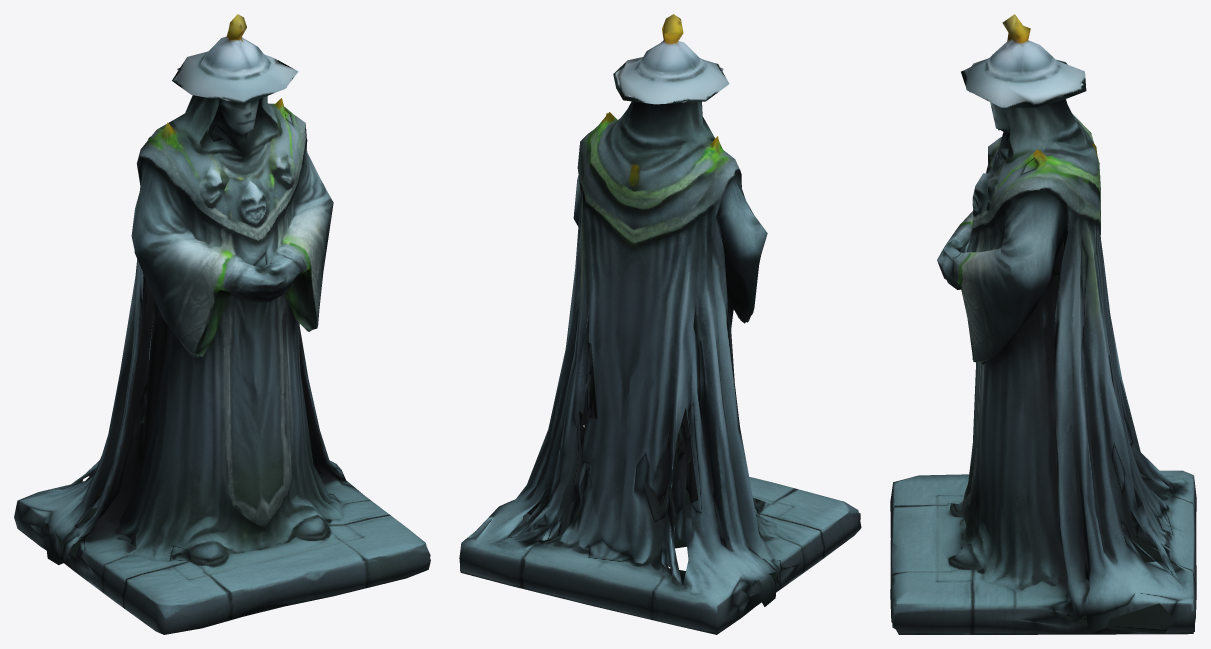
The model's file is cathedral-choir.glb.
3 renders of one model, left to right at view 1: azimuth 30°, elevation 25°; view 2: azimuth 150°, elevation 25°; view 3: azimuth 270°, elevation 25°, orthographic. The views are drawn at different scales.
Parts seen in each view (by area): view 1: geometry_0; view 2: geometry_0; view 3: geometry_0.
Boxes of the visible parts, <box> form: geometry_0: <box>14,14,430,634</box>; geometry_0: <box>459,14,861,634</box>; geometry_0: <box>890,14,1196,634</box>.
Bounding box in the file's own units: 0.5343 × 0.9717 × 0.4854.
1 material, 1 textured.
